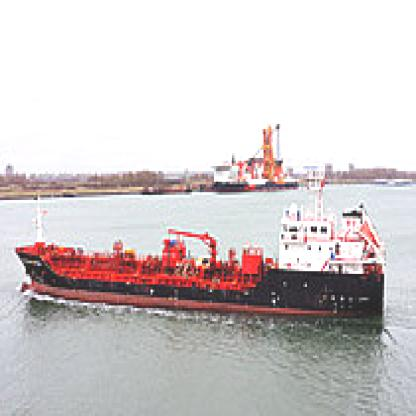Tanker: (16, 198, 406, 358)
